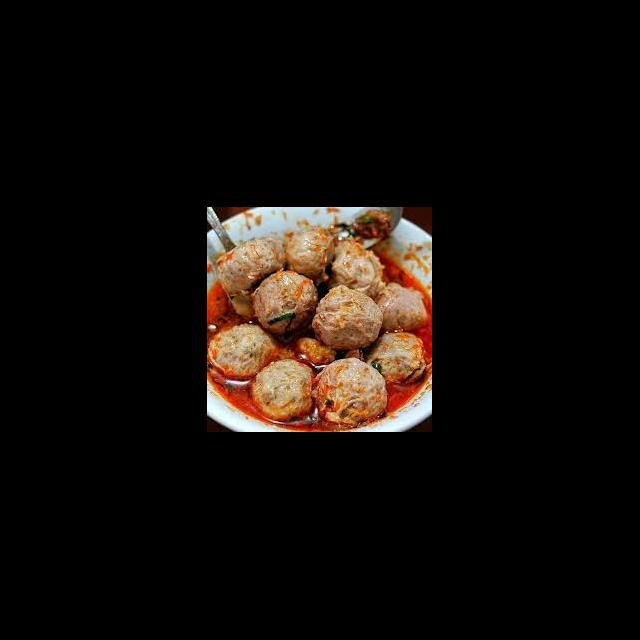food_waste: (236, 270, 402, 388)
